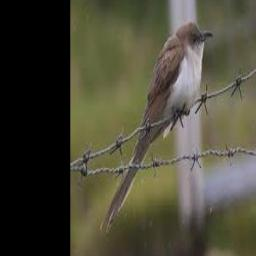Cuckoo: (99, 21, 213, 230)
